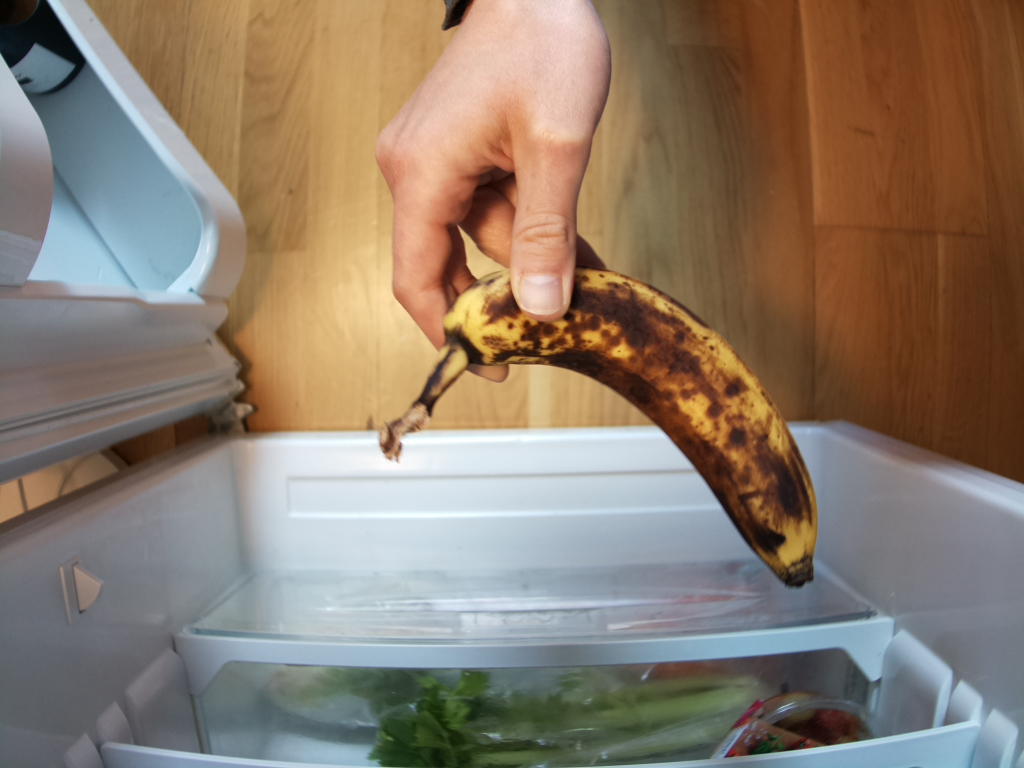banana-overripe: (380, 261, 822, 591)
